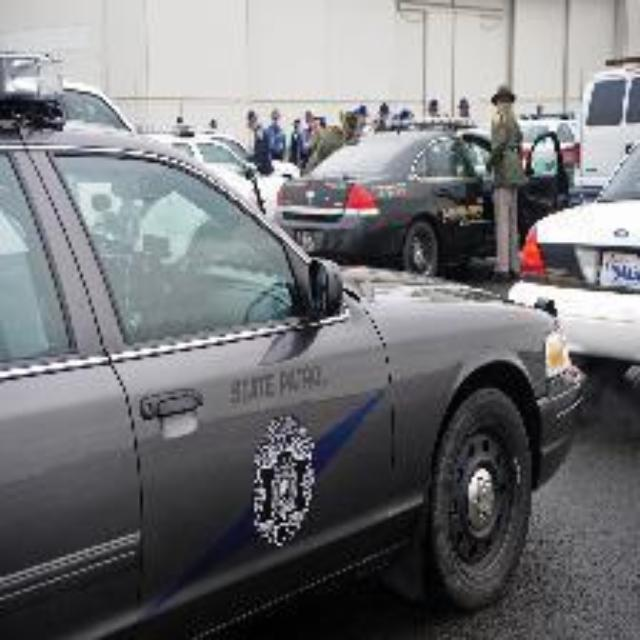emergency: (1, 80, 572, 626)
